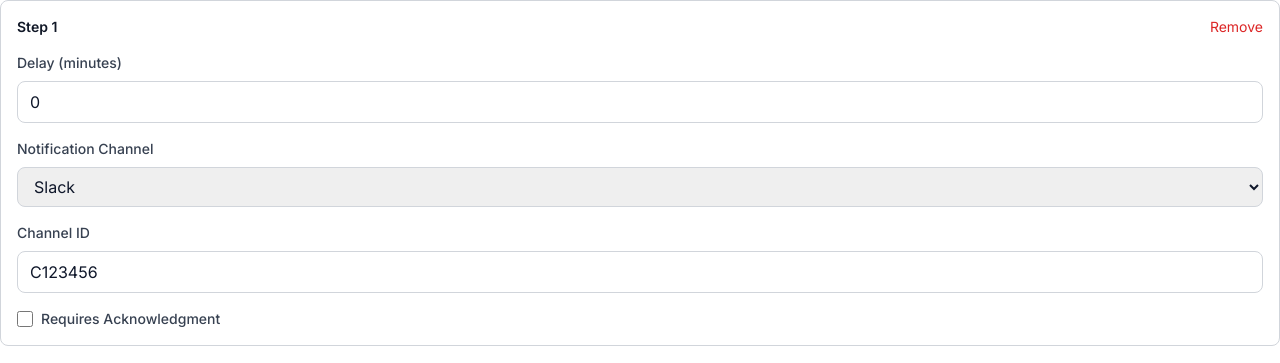
EscalationStepEditor › renders webhook channel config fields when selected
Select "Webhook" in the dropdown showing "Slack" at (640, 187), box x1=17 y1=167 x2=1263 y2=207
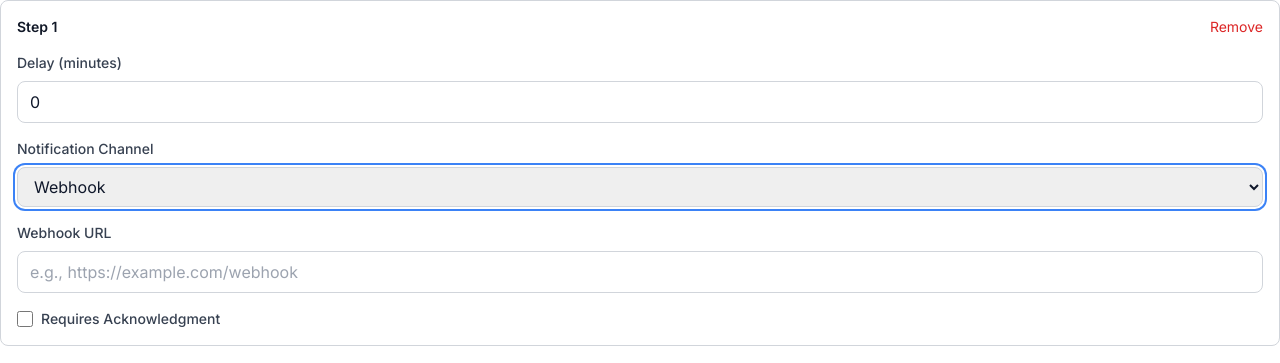
Check: the field with placeholder "e.g., https://example.com/webhook" is shown, box x1=17 y1=251 x2=1263 y2=293
